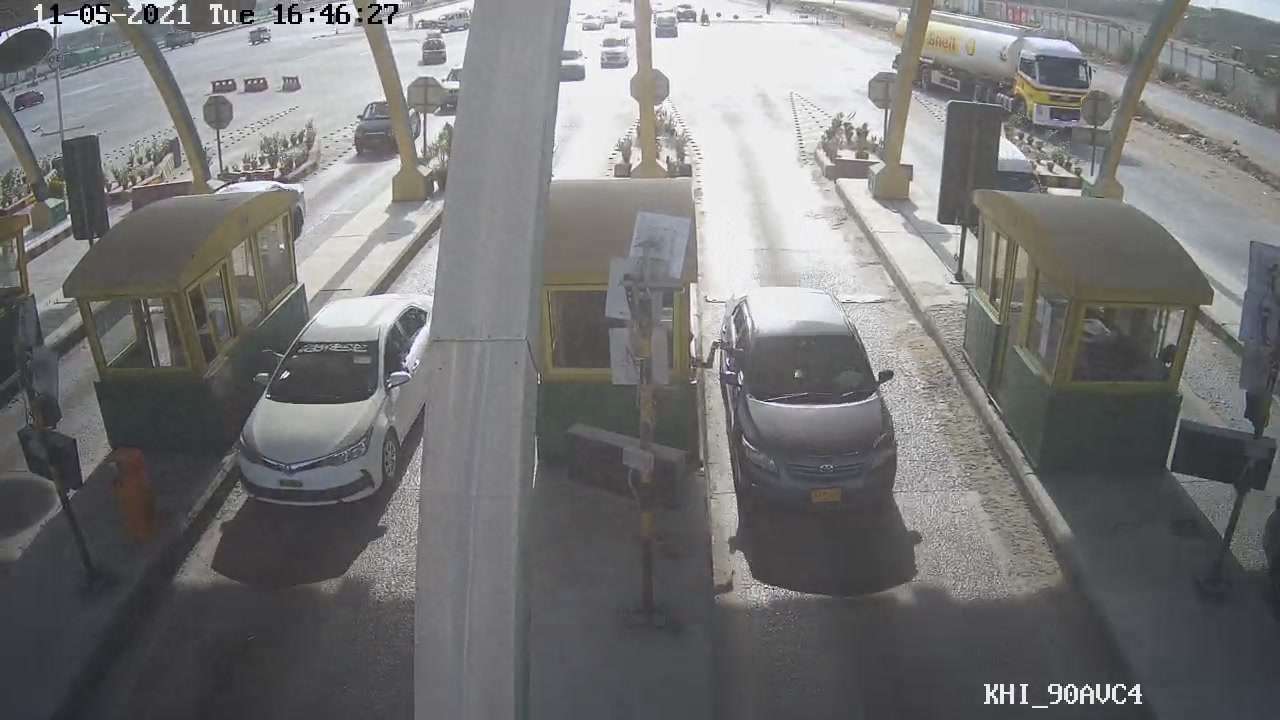F1: (714, 284, 902, 515)
